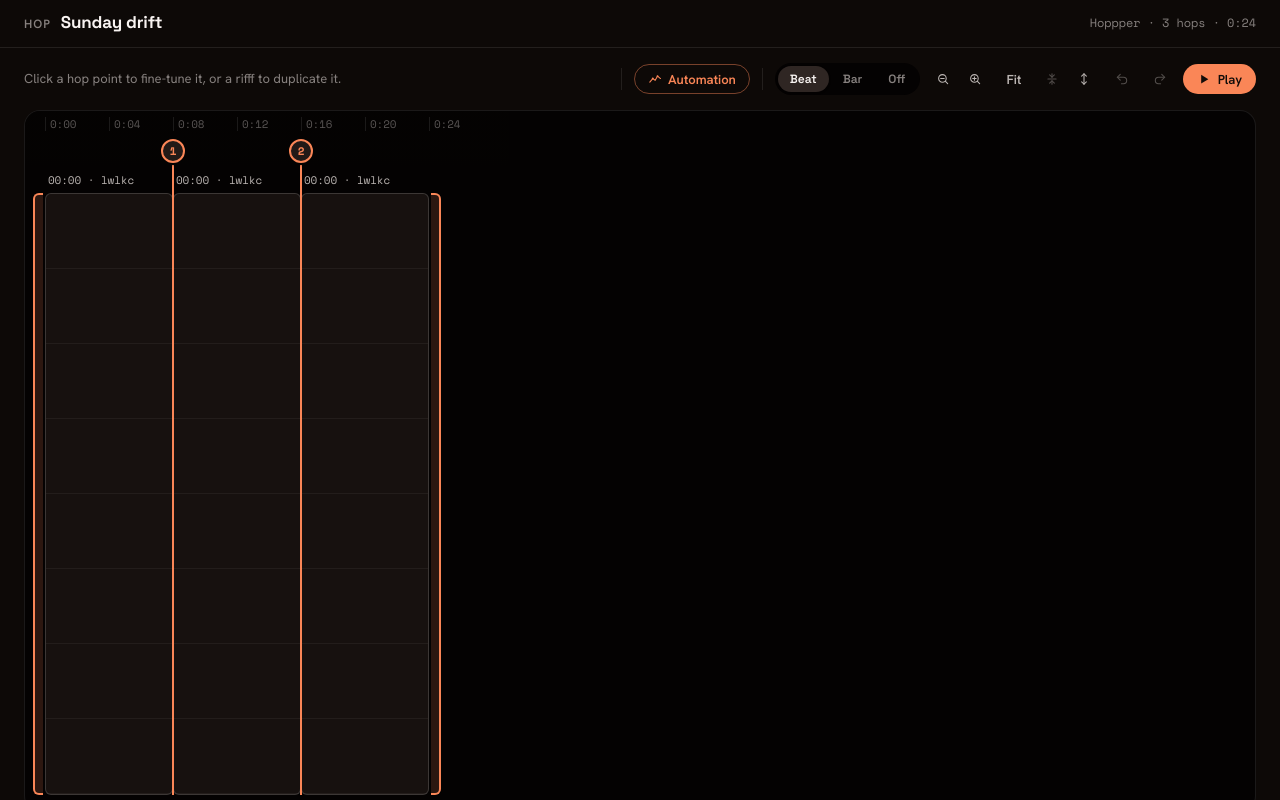
Scenario: HopEditingView › automation › sets hop editing aside while it’s on
The width and height of the screenshot is (1280, 800).
What coordinates should you click on to do the following:
click the button "Automation"
I would click on:
 (692, 79)
Its box is [634,64,750,94].
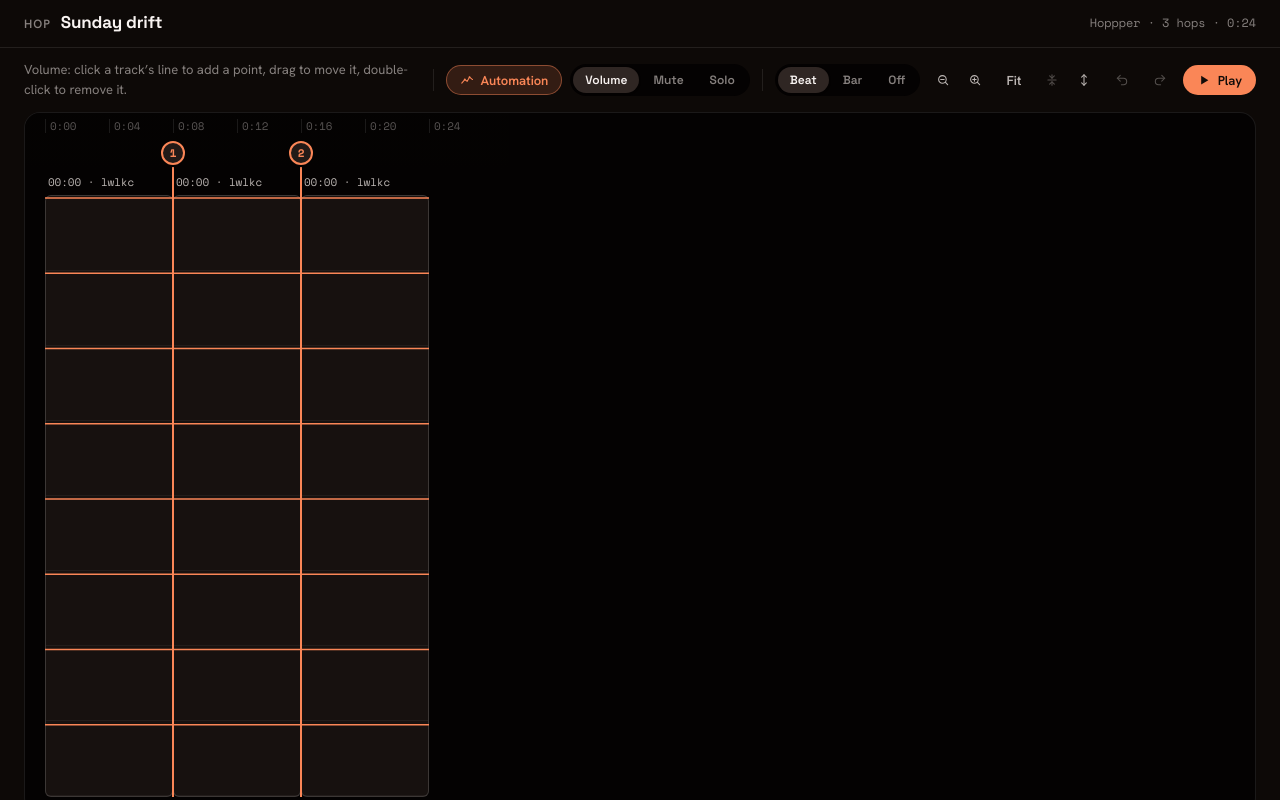
Expected: the button with test id "hop-point" showing "1" is disabled, [161,141,185,165]
